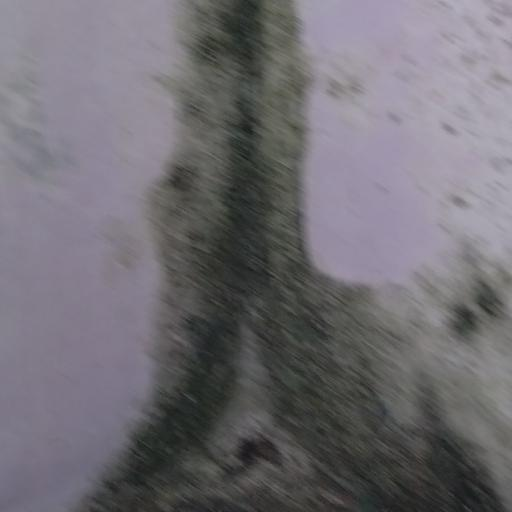algae: (108, 1, 512, 511)
